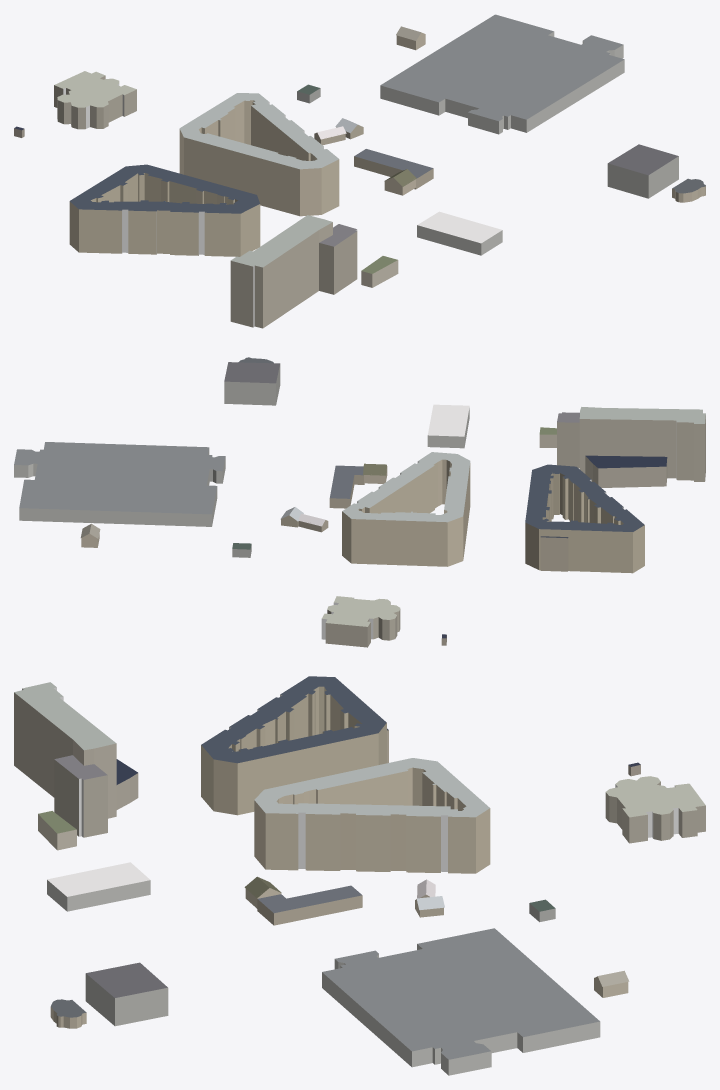
The picture shows the model from 3 angles, top to bottom: view 1: azimuth 30°, elevation 25°; view 2: azimuth 150°, elevation 25°; view 3: azimuth 270°, elevation 25°; orthographic projection. The views are drawn at different scales.
Visible parts, largest first — view 1: tuile; view 2: tuile; view 3: tuile.
Boxes of the visible parts, box(x1,y1,x2,y2) form: tuile: box(14, 14, 705, 328); tuile: box(14, 357, 705, 647); tuile: box(14, 676, 705, 1075).
Size of the model in its own units: 321 by 31.76 by 265.
